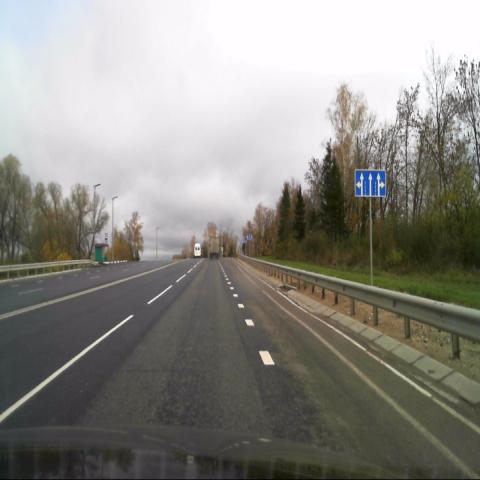5_15_1: (354, 169, 386, 197)
